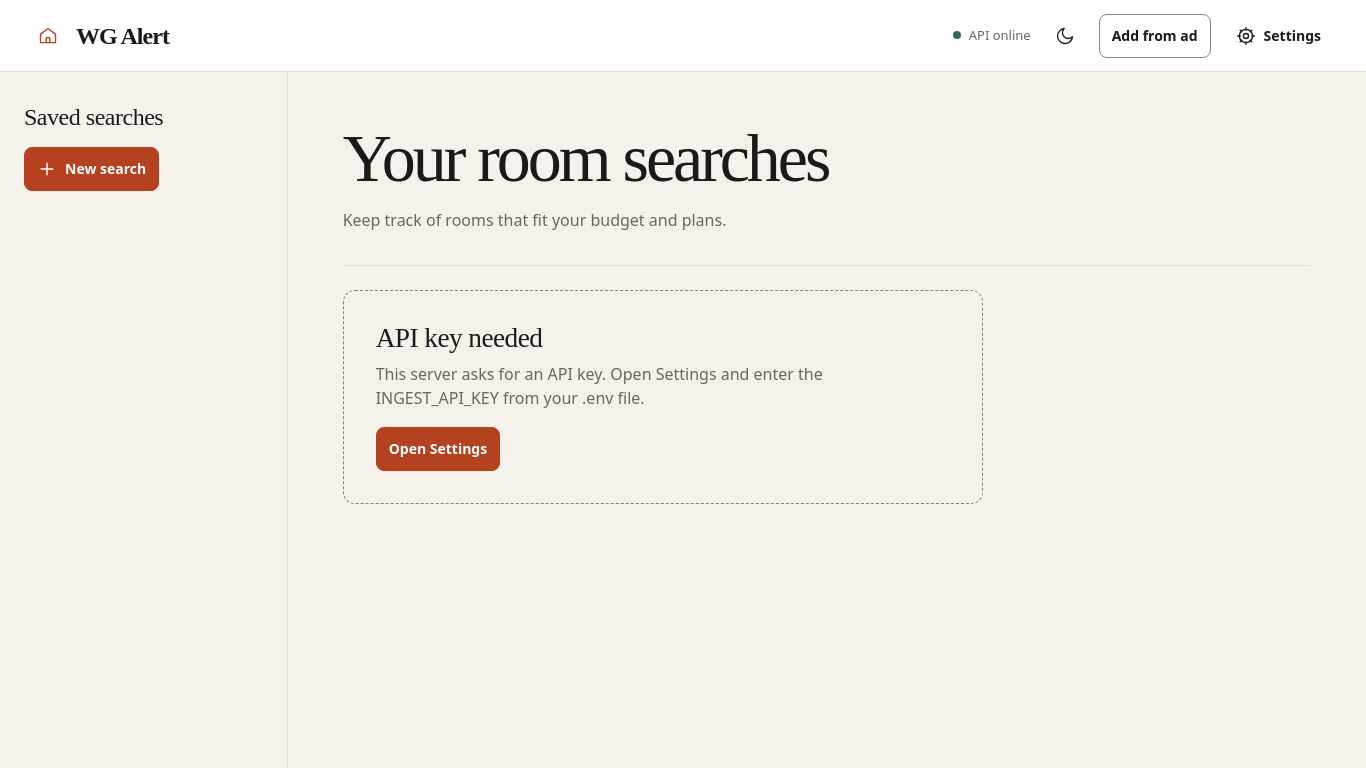
Test: asks for the API key when the server answers 401
Expected: the heading "API key needed" is shown, 376,323 -> 542,353
Click the button "Open Settings" at (438, 449), box 376,427 -> 500,471
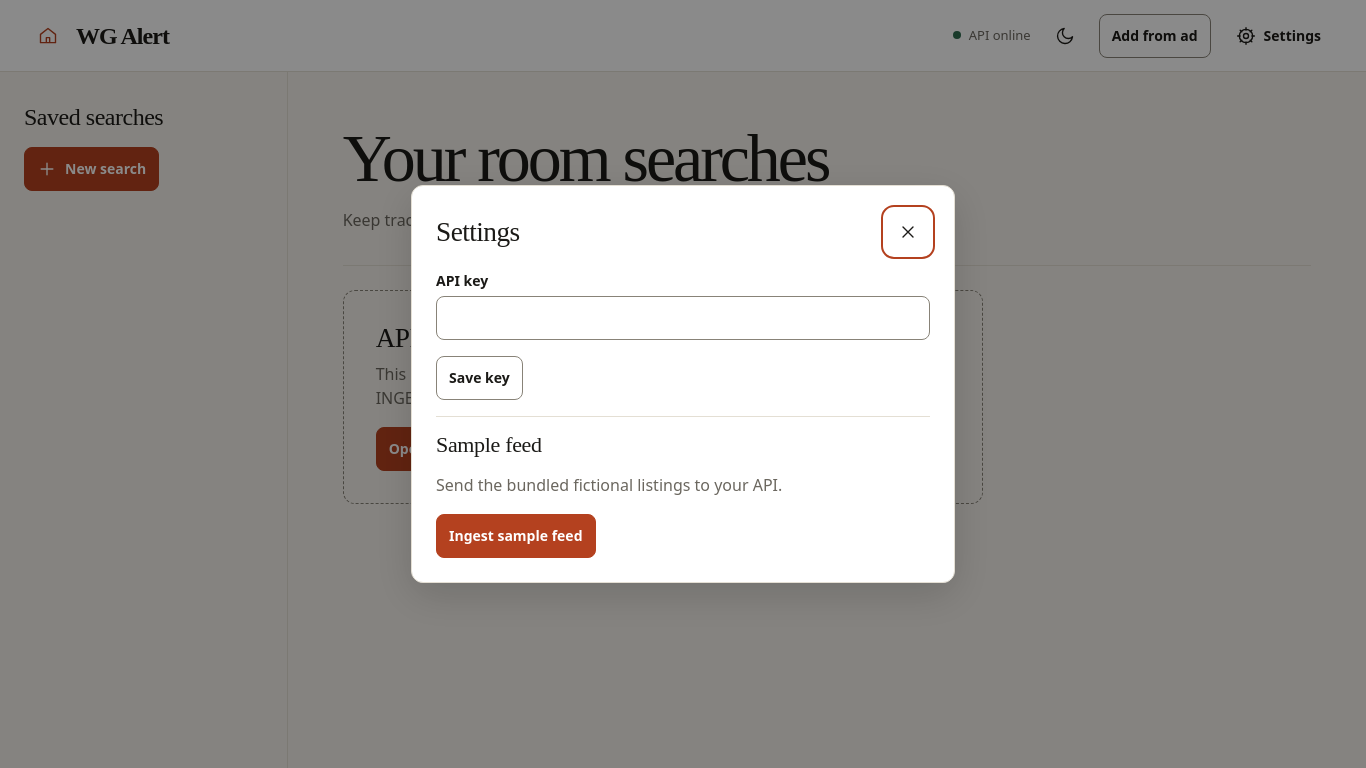
Expected: the dialog "Settings" is shown, 411,185 -> 955,583
